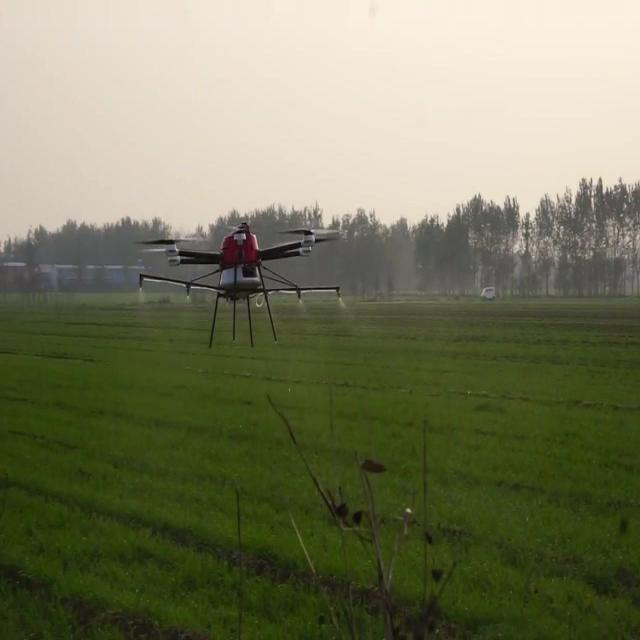drone: (133, 218, 342, 346)
